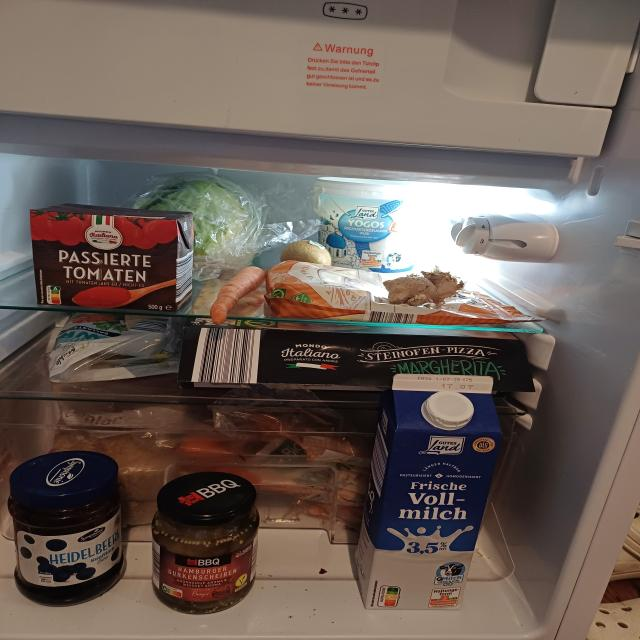Cheese: (276, 258, 540, 329)
Ginger: (386, 267, 460, 307)
Jam: (4, 453, 129, 605)
Milk: (355, 370, 504, 620)
Pickle: (152, 470, 254, 613)
Pizza: (196, 321, 534, 391)
Tomato Puree: (28, 207, 190, 313)
Tortilla: (42, 314, 182, 384)
Yogurt: (310, 175, 422, 272)
cabbage: (140, 169, 254, 276)
carrot: (208, 260, 266, 330)
carrots: (186, 408, 362, 527)
kiwi: (279, 238, 332, 269)
